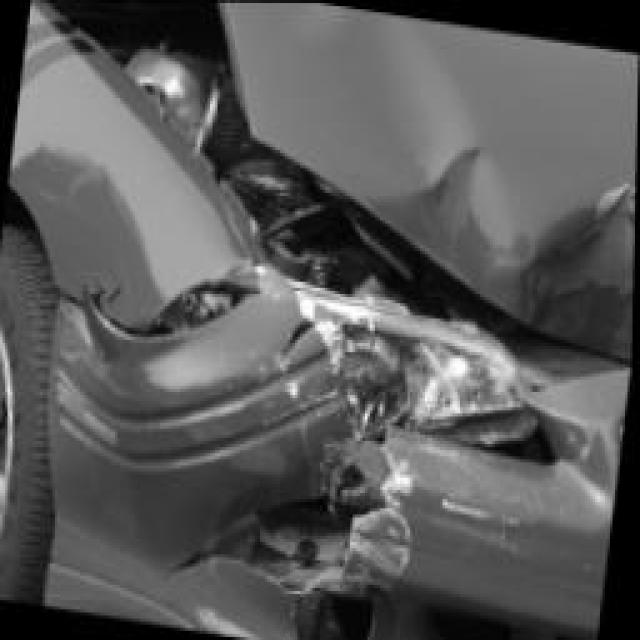Bonnet: (362, 43, 638, 339)
Bumper: (78, 352, 623, 639)
Light: (292, 282, 528, 446)
